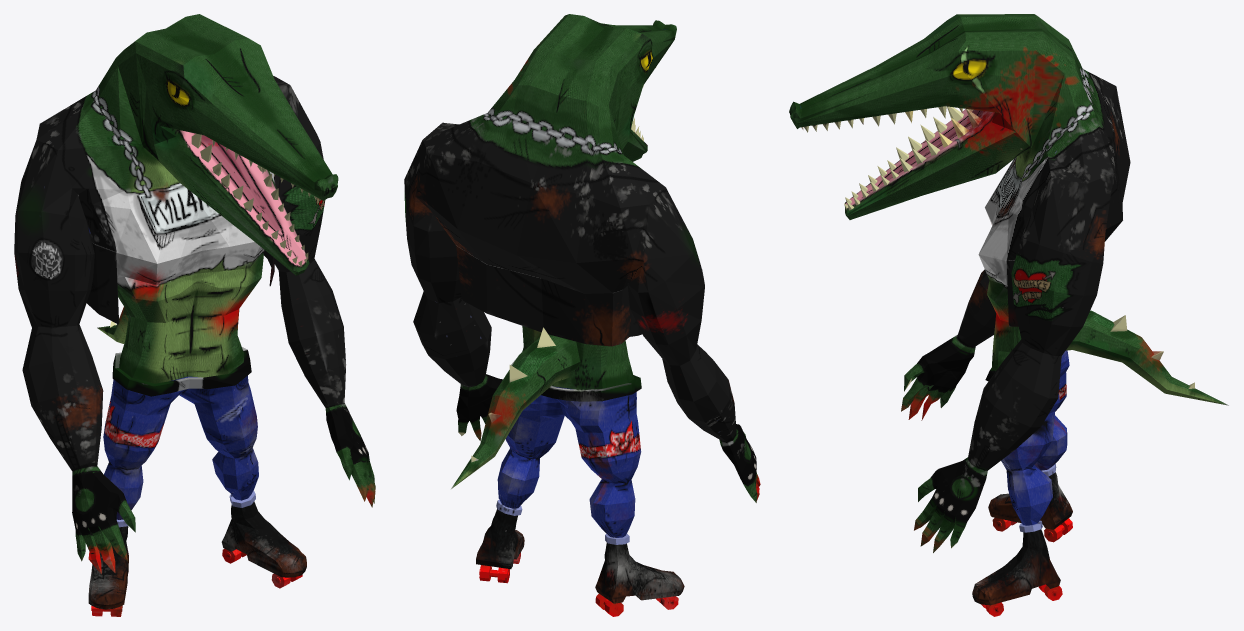
File: cocodrilaBonesSelect_000090.obj
3 views of the same model, side by side, from view 1: azimuth 30°, elevation 25°; view 2: azimuth 150°, elevation 25°; view 3: azimuth 270°, elevation 25° (orthographic). The views are drawn at different scales.
Parts seen in each view (by area): view 1: Crocodile.002_Cylinder.002; view 2: Crocodile.002_Cylinder.002; view 3: Crocodile.002_Cylinder.002.
Boxes of the visible parts, bbox=[...] form: Crocodile.002_Cylinder.002: bbox=[14, 14, 375, 616]; Crocodile.002_Cylinder.002: bbox=[404, 14, 760, 616]; Crocodile.002_Cylinder.002: bbox=[789, 14, 1228, 616].
Size of the model in its own units: 3.86 by 6.74 by 4.92.
